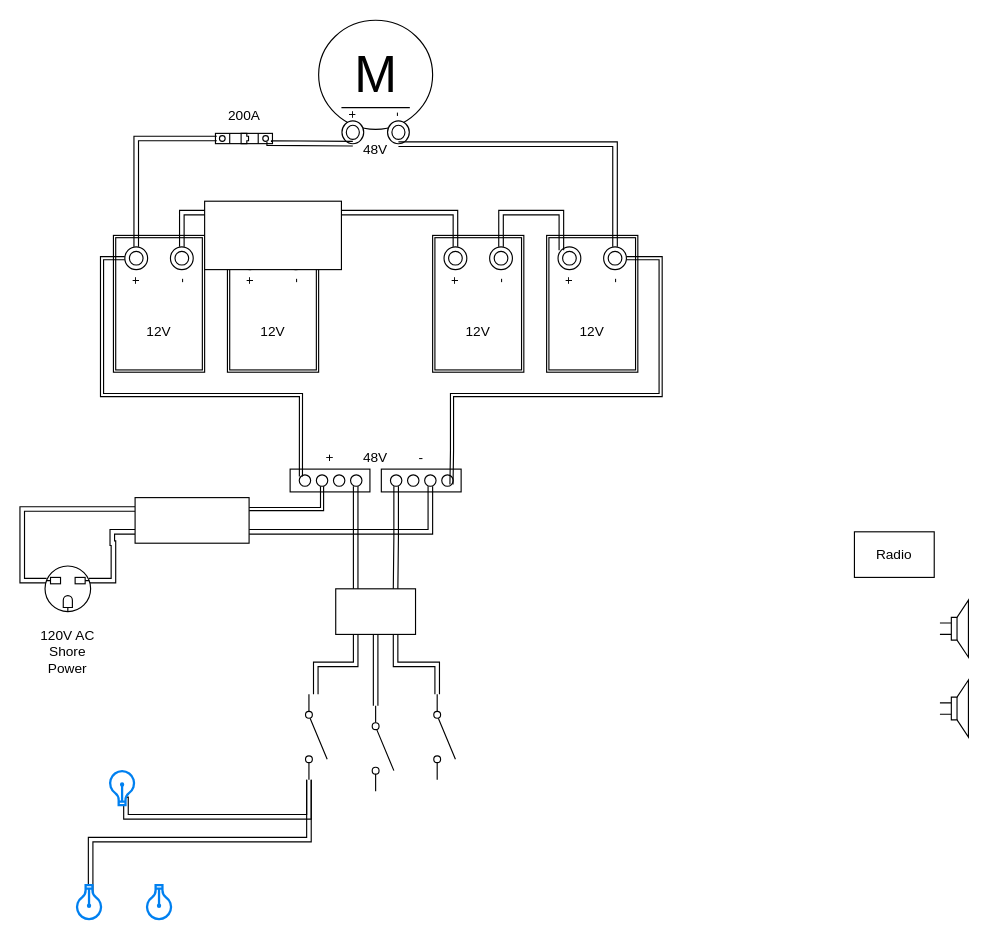
This 988x939 diagram has some shape labels left out. Each missing label, with the box of its shape:
120V AC 48V DC: (134, 496, 249, 543)
48V DC 12VDC: (335, 588, 416, 634)
